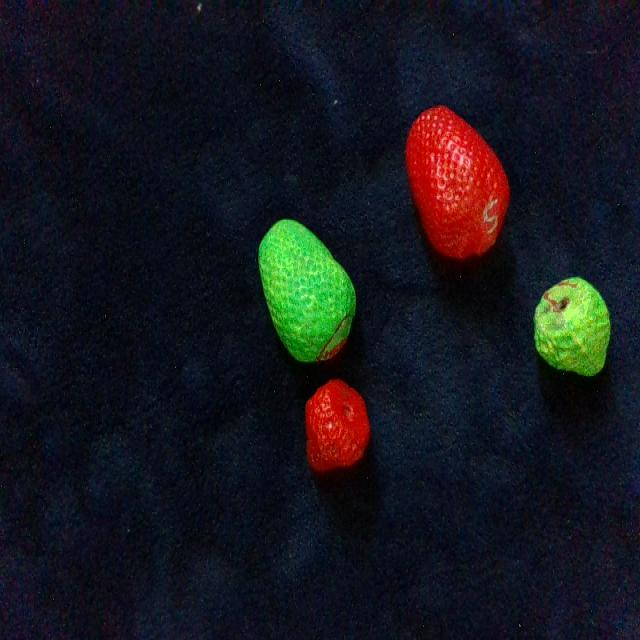chica_roja: (306, 379, 370, 472)
grande_roja: (405, 105, 509, 257)
verde: (258, 219, 355, 361), (535, 277, 610, 375)
